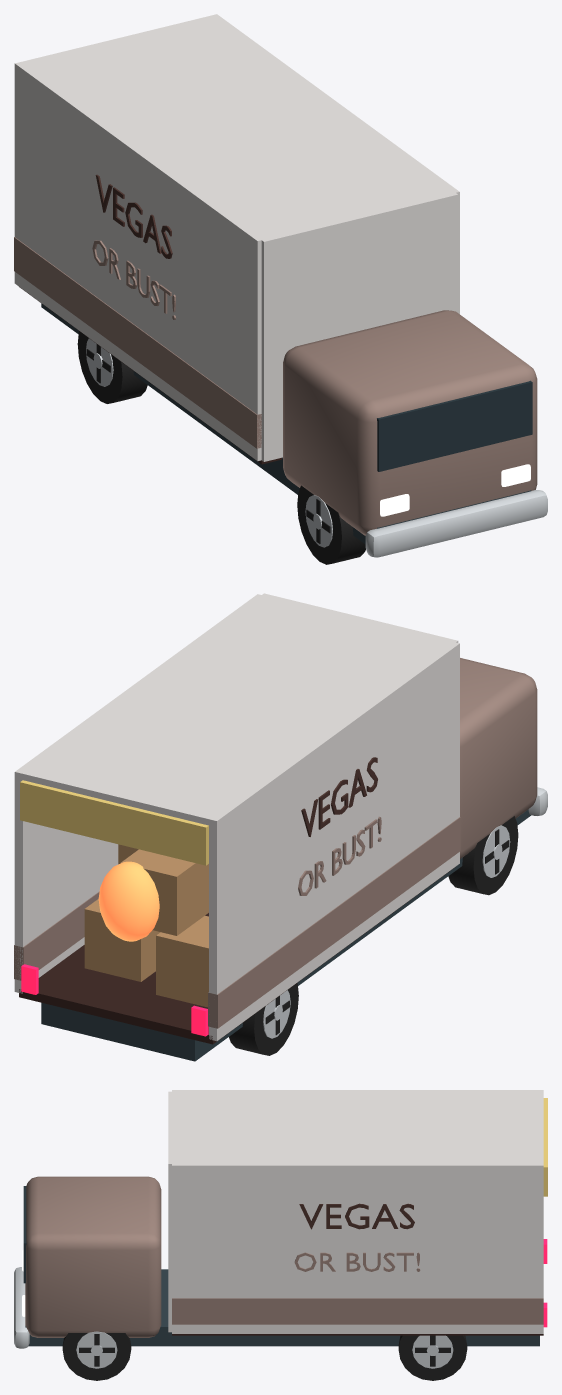
File: journey_burry_truck.glb
3 views of the same model, one above another, from view 1: azimuth 30°, elevation 25°; view 2: azimuth 150°, elevation 25°; view 3: azimuth 270°, elevation 25° (orthographic). The views are drawn at different scales.
Parts seen in each view (by area): view 1: BurryTruck_body, Wheel_FR.002, Wheel_RR.002; view 2: BurryTruck_body, Wheel_FR.002, Wheel_RR.002; view 3: BurryTruck_body, Wheel_FL.002, Wheel_RL.002.
Boxes of the visible parts, bbox=[...] form: BurryTruck_body: bbox=[14, 14, 547, 557]; Wheel_FR.002: bbox=[297, 485, 365, 564]; Wheel_RR.002: bbox=[77, 331, 147, 403]; BurryTruck_body: bbox=[14, 593, 547, 1061]; Wheel_FR.002: bbox=[448, 816, 518, 895]; Wheel_RR.002: bbox=[229, 983, 298, 1055]; BurryTruck_body: bbox=[14, 1090, 547, 1348]; Wheel_FL.002: bbox=[62, 1331, 131, 1380]; Wheel_RL.002: bbox=[398, 1335, 467, 1380].
Bounding box in the file's own units: 2.56 × 3.4 × 7.47.
